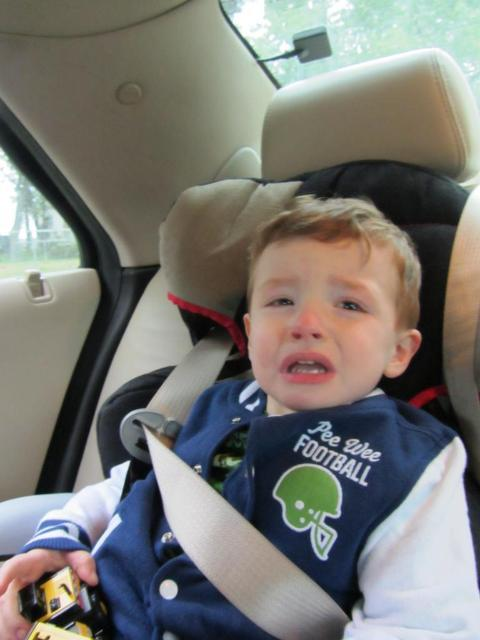SafeDriving: (325, 284, 377, 322), (256, 281, 303, 318)
Seatbelt: (136, 325, 352, 639)
